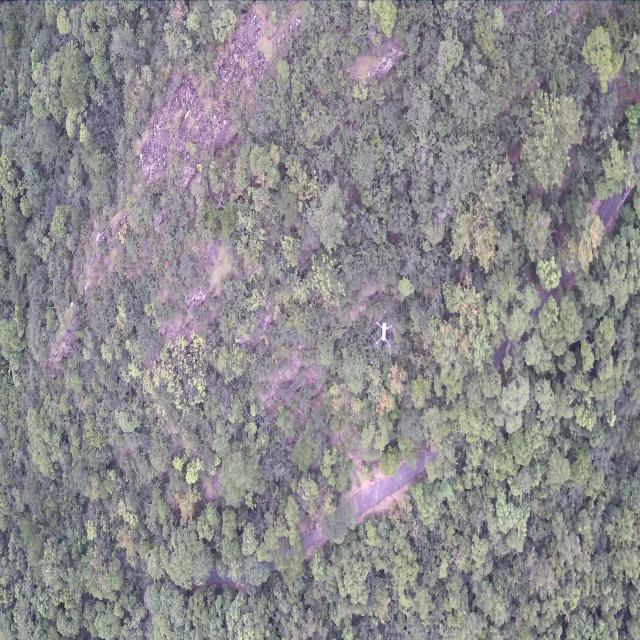drone: (375, 320, 392, 348)
